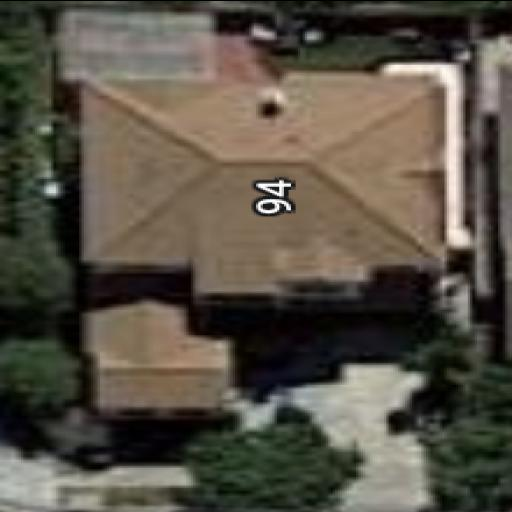Slope-Roof: (83, 73, 442, 292)
